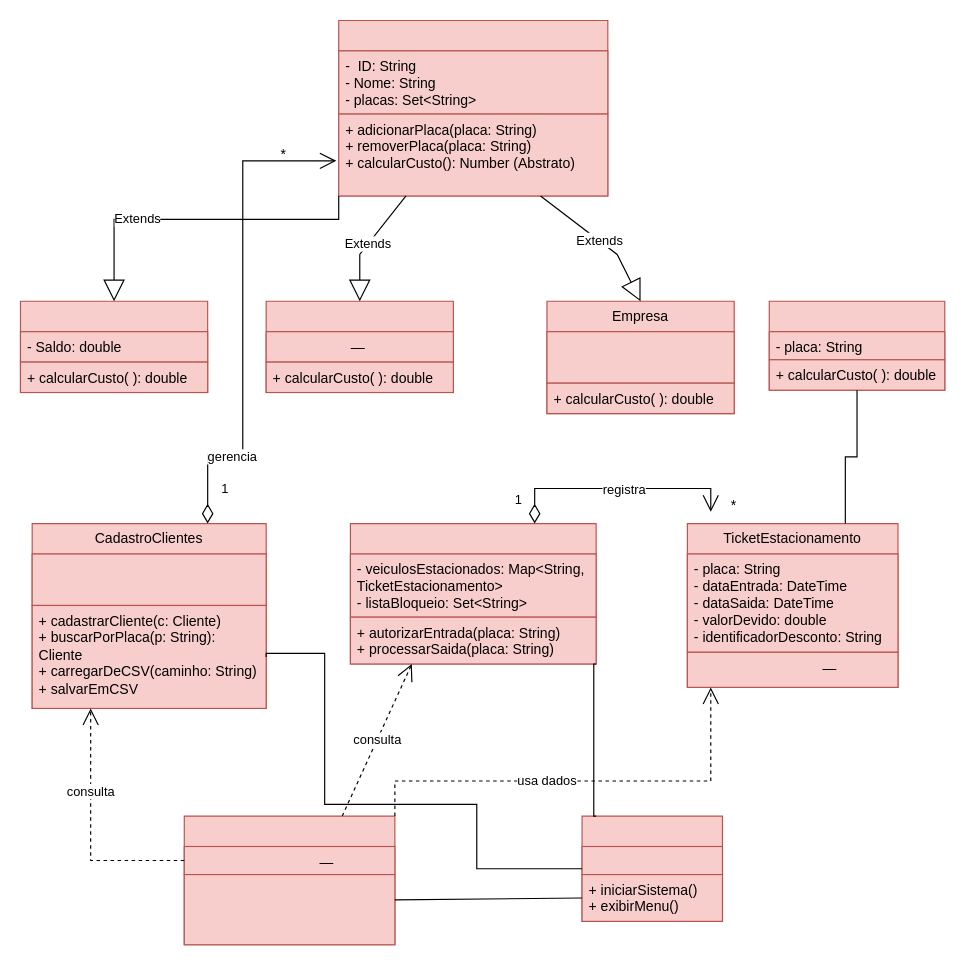
This 965x969 diagram has some shape labels left out. Each missing label, with the box of its shape:
+ totalArrecadadoPorPeriodo() + situacaoCliente(id: String) + relacaoImpedidos(): (183, 873, 395, 945)
- Debito: double - inadimplente: boolean: (546, 331, 734, 383)
- indicePlacas: Map<String, Cliente>: (31, 553, 266, 605)
App: (581, 815, 722, 921)
Cliente: (338, 19, 608, 196)
ClienteAvulso: (768, 300, 945, 390)
Estudante: (19, 300, 208, 393)
Professor: (265, 300, 453, 393)
RegistroDeEntradas_E_Saidas: (349, 522, 596, 664)
RelatoriosGerenciais: (183, 815, 395, 945)
